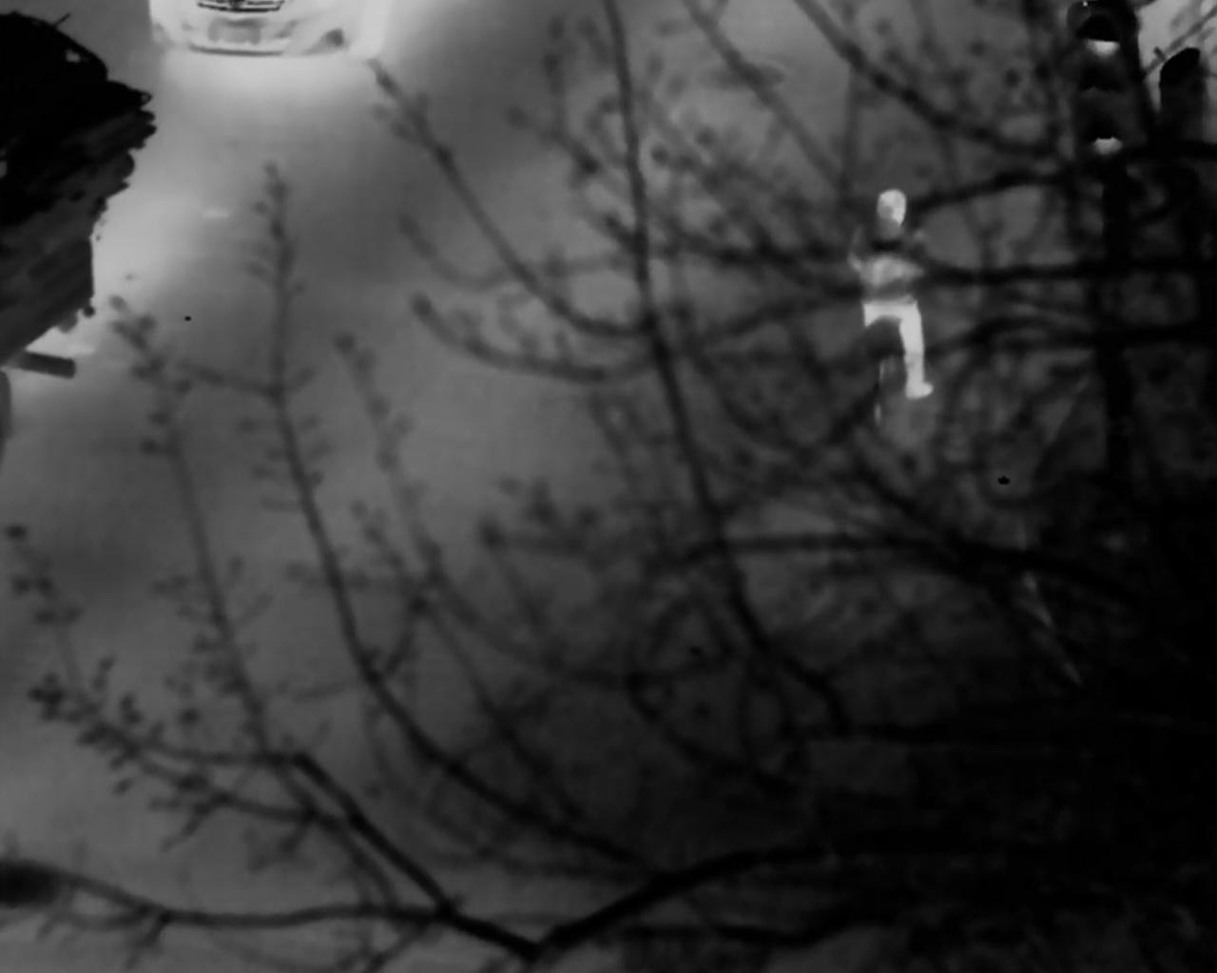person: (834, 180, 952, 399)
